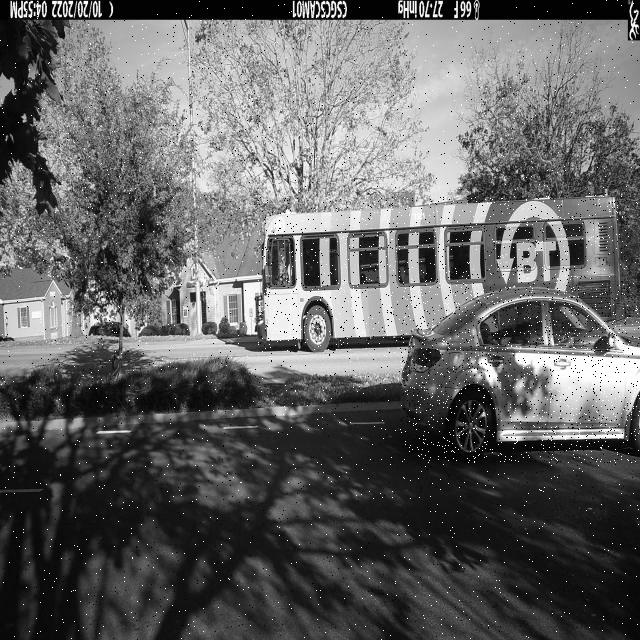Bus: (256, 196, 629, 352)
Sedan: (401, 287, 640, 463)
